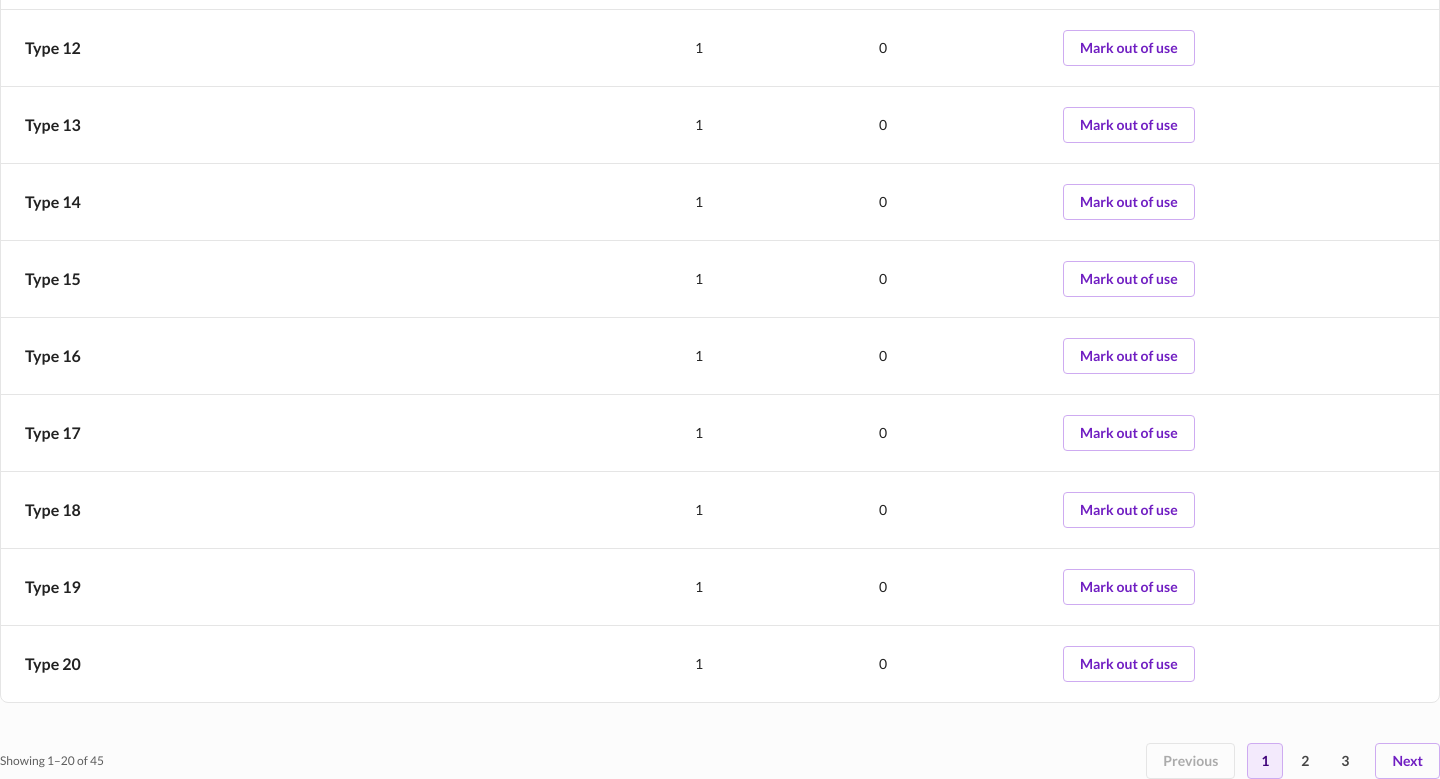
Test: EquipmentUnitsPanel — pagination › shows 20 types a page: 20, then 20, then 5 of 45
(page scrolled)
Click the button named "Page 3" at (1345, 761), box [1327,743,1363,778]
(page scrolled)
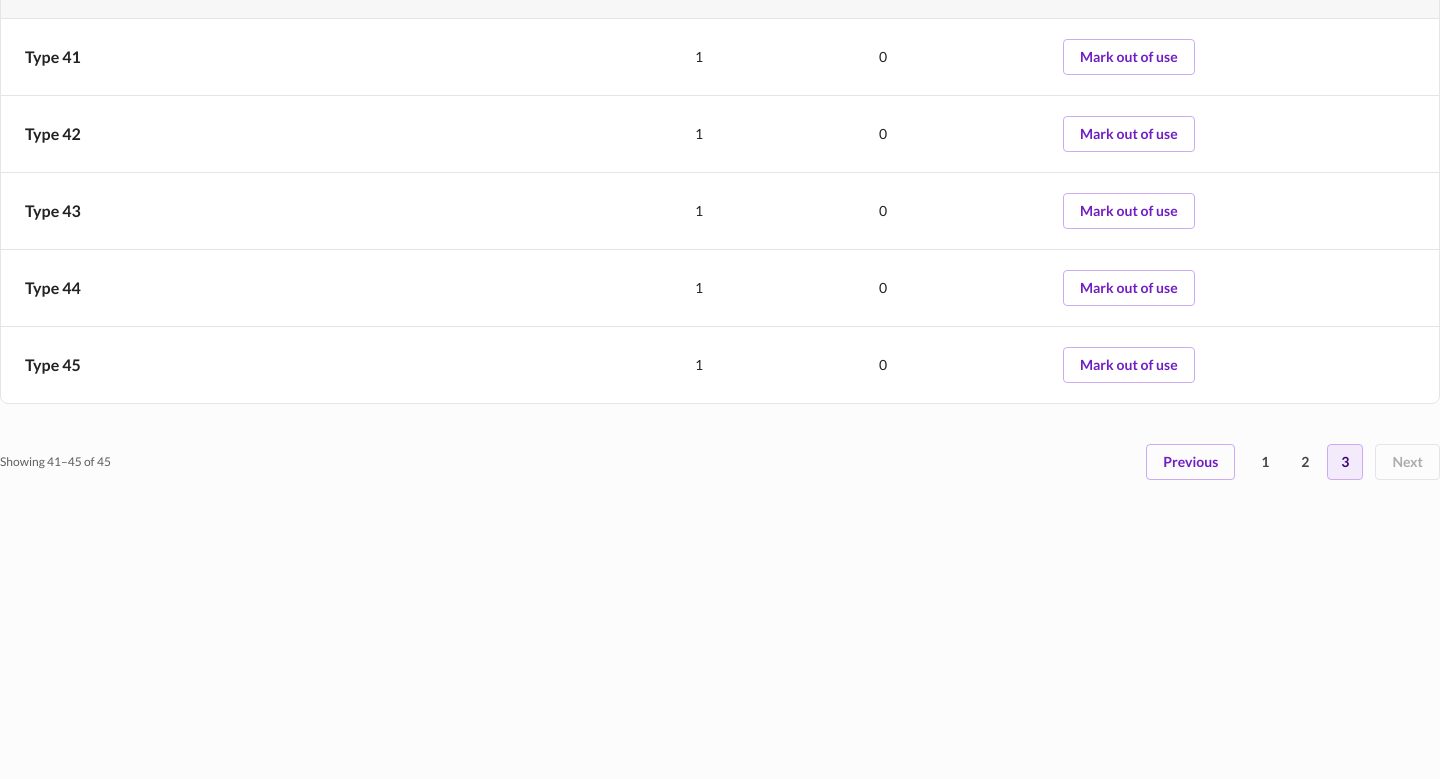
expect the text with test id "pagination-summary" reads "Showing 41–45 of 45": met, box [0,454,111,469]
